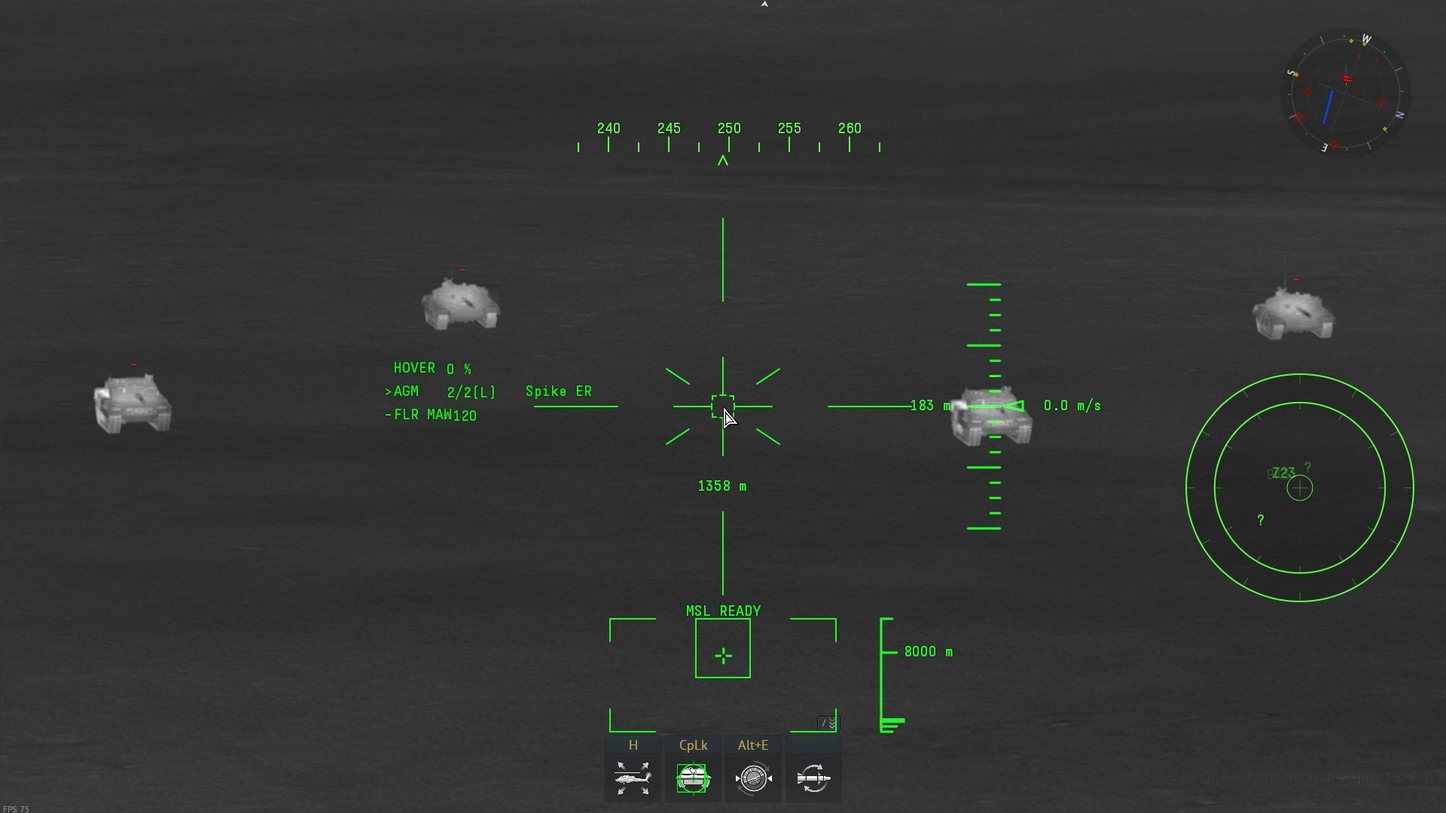leopard2: (949, 386, 1034, 447), (94, 373, 173, 434)
t72b: (1252, 288, 1335, 340), (421, 278, 501, 330)
